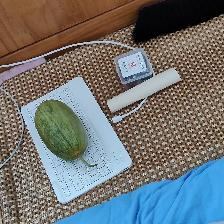gua: (31, 100, 90, 162)
